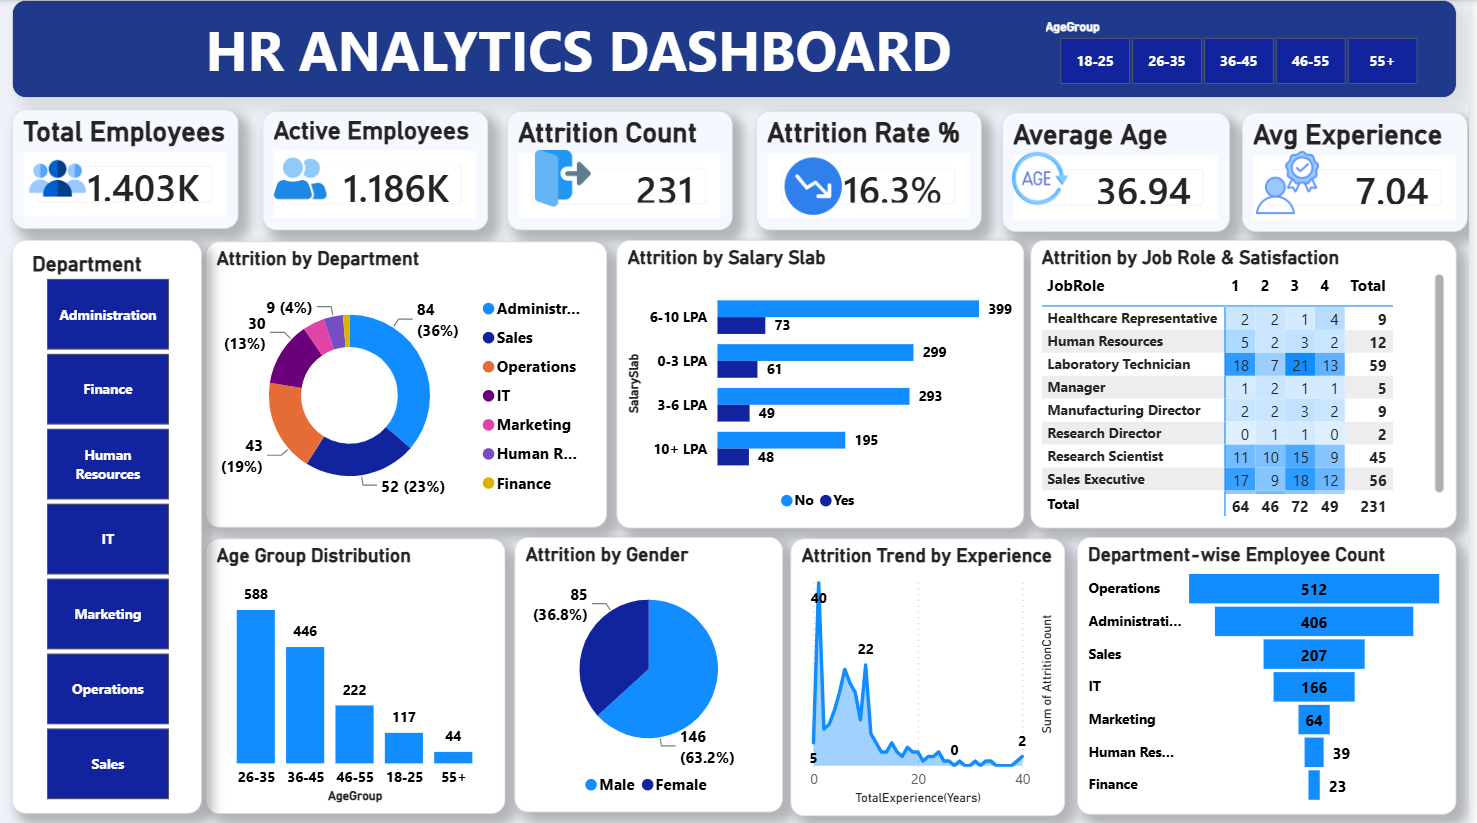

What the dashboard file says about the page in this screenshot:
{"tool":"powerbi","page":{"name":"Page 1","canvas":[1280,720],"ordinal":0},"visuals":[{"type":"textbox","box":[10,0,1259,85],"z":0},{"type":"cardVisual","title":"Total Employees","fields":{"Data":["Count(HR_Analytics-4.EmpID)"]},"box":[10,95,197,104],"z":1000},{"type":"cardVisual","title":"Active Employees","fields":{"Data":["CountNonNull(HR_Analytics-4.EmployeeCount)"]},"box":[228.7,96.4,196.5,103.9],"z":2000},{"type":"cardVisual","title":"Attrition Count","fields":{"Data":["Sum(HR_Analytics-4.AttritionColumn)"]},"box":[442.2,96.4,196.5,103.9],"z":3000},{"type":"cardVisual","title":"Attrition Rate %","fields":{"Data":["HR_Analytics-4.Attrition Rate %"]},"box":[659.5,96.4,196.5,103.9],"z":4000},{"type":"cardVisual","title":"Average Age","fields":{"Data":["Avg(HR_Analytics-4.Age)"]},"box":[873.1,98.3,198.4,103.9],"z":5000},{"type":"cardVisual","title":"Avg Experience","fields":{"Data":["Avg(HR_Analytics-4.YearsatCompany)"]},"box":[1082.8,98.3,196.5,103.9],"z":6000},{"type":"image","box":[24.6,130.4,51,49.1],"z":7000},{"type":"image","box":[228.7,130.4,66.1,49.1],"z":8000},{"type":"image","box":[680.9,137.9,55.8,49.9],"z":9000},{"type":"image","box":[457.3,130.4,66.1,49.1],"z":10000},{"type":"image","box":[873.1,130.4,66.1,49.1],"z":11000},{"type":"image","box":[1082.8,130.4,79.4,56.7],"z":12000},{"type":"donutChart","title":"Attrition by Department","fields":{"Category":["HR_Analytics-4.Department"],"Y":["Sum(HR_Analytics-4.AttritionCount)"]},"box":[179,210,350,249],"z":13000},{"type":"clusteredBarChart","title":"Attrition by Salary Slab","fields":{"Category":["HR_Analytics-4.SalarySlab"],"Y":["CountNonNull(HR_Analytics-4.EmpID)"],"Series":["HR_Analytics-4.Attrition"]},"box":[537,209,355,251],"z":14000},{"type":"pivotTable","title":"Attrition by Job Role & Satisfaction","fields":{"Rows":["HR_Analytics-4.JobRole"],"Values":["Sum(HR_Analytics-4.AttritionCount)"],"Columns":["HR_Analytics-4.JobSatisfaction"]},"box":[898,209,371,251],"z":15000},{"type":"columnChart","title":"Age Group Distribution","fields":{"Category":["HR_Analytics-4.AgeGroup"],"Y":["Sum(HR_Analytics-4.EmployeeCount)"]},"box":[179,469,261,240],"z":16000},{"type":"pieChart","title":"Attrition by Gender","fields":{"Category":["HR_Analytics-4.Gender"],"Y":["Sum(HR_Analytics-4.AttritionCount)"]},"box":[448,468,234,240],"z":17000},{"type":"areaChart","title":"Attrition Trend by Experience","fields":{"Category":["HR_Analytics-4.TotalExperience(Years)"],"Y2":["Sum(HR_Analytics-4.AttritionCount)"]},"box":[689,469,239,242],"z":18000},{"type":"funnel","title":"Department-wise Employee Count","fields":{"Category":["HR_Analytics-4.Department"],"Y":["CountNonNull(HR_Analytics-4.EmpID)"]},"box":[939.2,468.7,330.7,241.9],"z":19000},{"type":"slicer","fields":{"Values":["HR_Analytics-4.Department"]},"box":[10.6,209,165,499.7],"z":20000},{"type":"slicer","fields":{"Values":["HR_Analytics-4.AgeGroup"]},"box":[898,12,361,68.1],"z":21000}]}

Visuals, with their boxes in screenshot pixels (x1, y1, x2, y2), scaled from the page's 1280x720 canvas onto the 1477x823 screenshot:
textbox: bbox=[12, 0, 1464, 97]
"Total Employees" cardVisual: bbox=[12, 109, 239, 227]
"Active Employees" cardVisual: bbox=[264, 110, 491, 229]
"Attrition Count" cardVisual: bbox=[510, 110, 737, 229]
"Attrition Rate %" cardVisual: bbox=[761, 110, 988, 229]
"Average Age" cardVisual: bbox=[1007, 112, 1236, 231]
"Avg Experience" cardVisual: bbox=[1249, 112, 1476, 231]
image: bbox=[28, 149, 87, 205]
image: bbox=[264, 149, 340, 205]
image: bbox=[786, 158, 850, 215]
image: bbox=[528, 149, 604, 205]
image: bbox=[1007, 149, 1084, 205]
image: bbox=[1249, 149, 1341, 214]
"Attrition by Department" donutChart: bbox=[207, 240, 610, 525]
"Attrition by Salary Slab" clusteredBarChart: bbox=[620, 239, 1029, 526]
"Attrition by Job Role & Satisfaction" pivotTable: bbox=[1036, 239, 1464, 526]
"Age Group Distribution" columnChart: bbox=[207, 536, 508, 810]
"Attrition by Gender" pieChart: bbox=[517, 535, 787, 809]
"Attrition Trend by Experience" areaChart: bbox=[795, 536, 1071, 813]
"Department-wise Employee Count" funnel: bbox=[1084, 536, 1465, 812]
slicer - HR_Analytics-4.Department: bbox=[12, 239, 203, 810]
slicer - HR_Analytics-4.AgeGroup: bbox=[1036, 14, 1453, 92]
